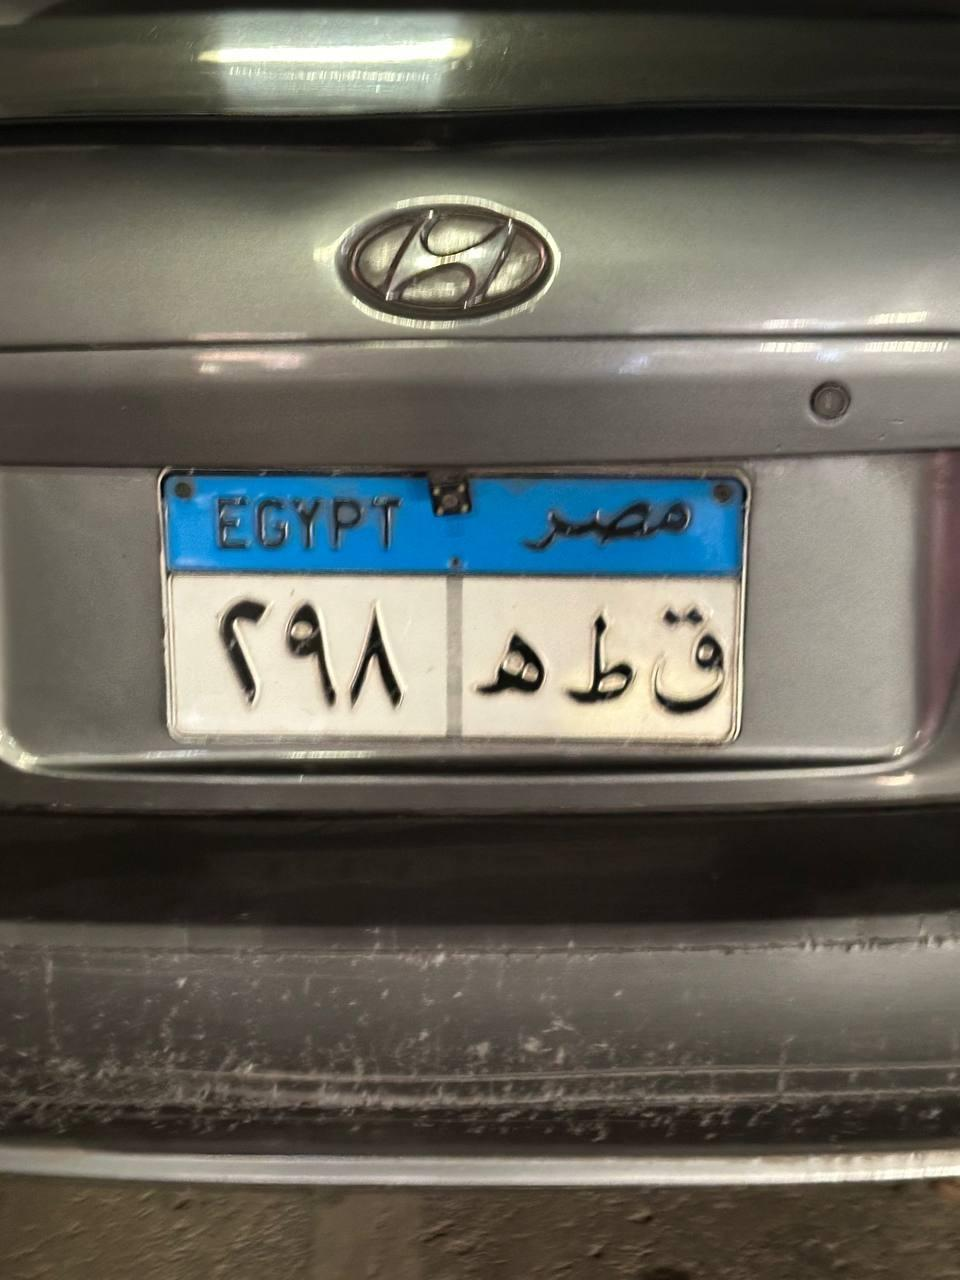2: (214, 584, 276, 708)
8: (342, 600, 406, 718)
9: (276, 594, 346, 698)
Heeh: (469, 634, 558, 703)
License Plate: (151, 453, 766, 752)
Q: (636, 586, 732, 726)
Taa: (550, 606, 646, 706)
